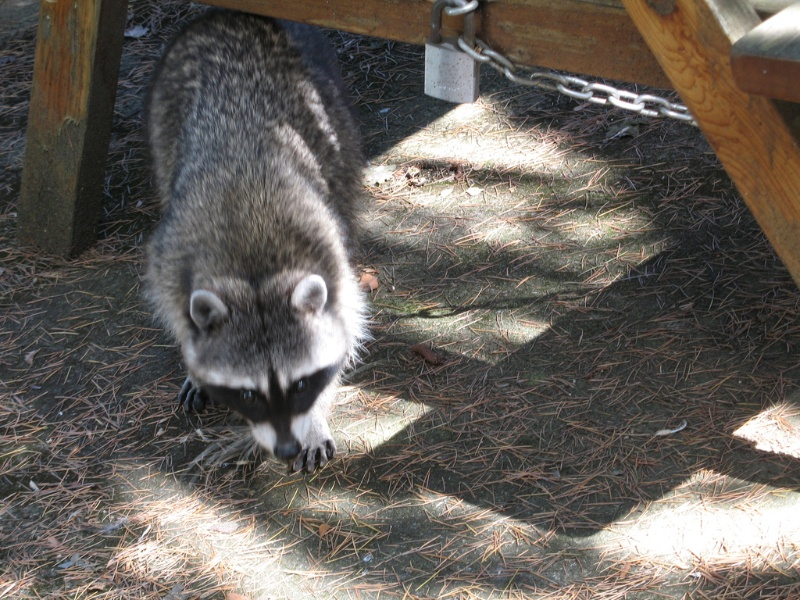raccoon: (150, 11, 374, 481)
